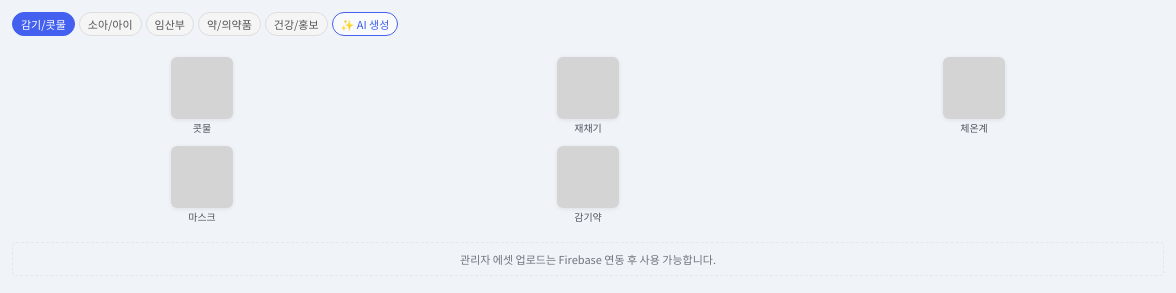
it: AssetPanel — AI 생성 탭 › VITE_CLAUDE_API_KEY 미설정 시 안내 메시지가 표시된다
The image size is (1176, 293).
What coordinates should you click on to do the following:
click the button "✨ AI 생성"
I would click on:
 (365, 24)
Its box is 332,12 -> 398,36.
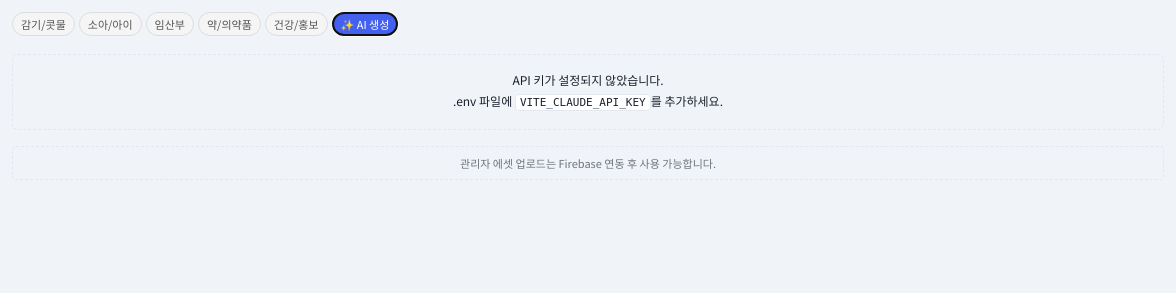
expect the text "API 키가 설정되지 않았습니다." is shown: met, box 512,71 -> 664,88
expect the text "VITE_CLAUDE_API_KEY" is shown: met, box 515,94 -> 651,111
